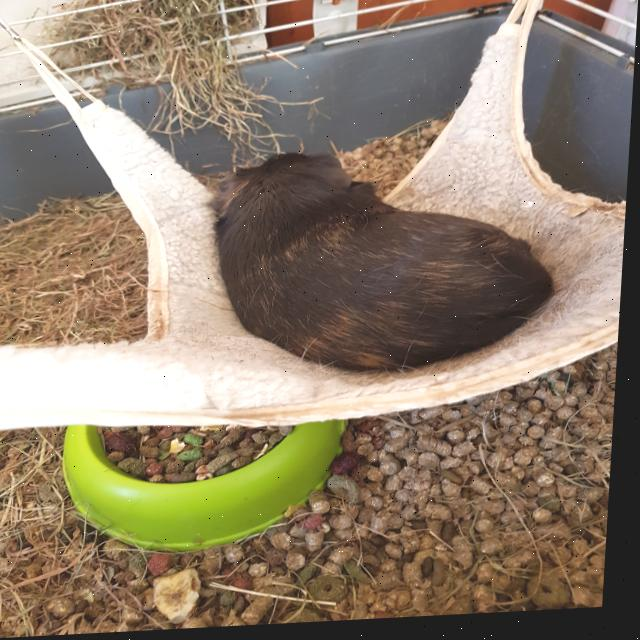guinea pig: (208, 142, 567, 384)
